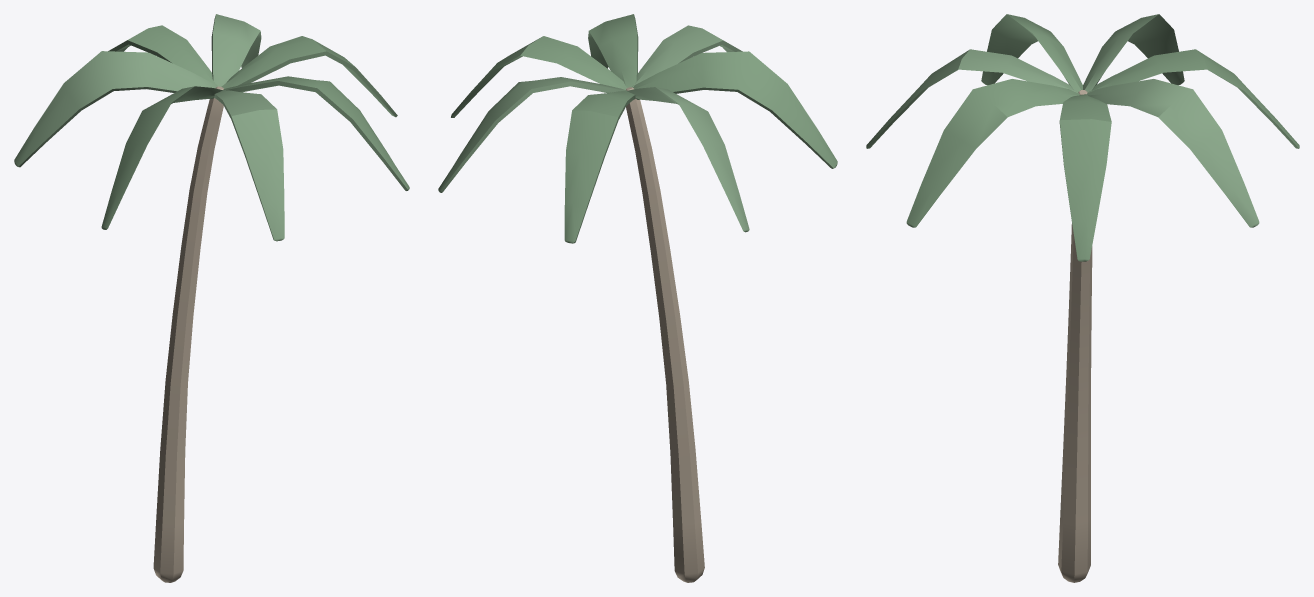
The model's file is tree_palm.gltf.
3 views of the same model, side by side, from view 1: azimuth 30°, elevation 25°; view 2: azimuth 150°, elevation 25°; view 3: azimuth 270°, elevation 25° (orthographic). The views are drawn at different scales.
Parts seen in each view (by area): view 1: Body; view 2: Body; view 3: Body.
Boxes of the visible parts, bbox=[...] form: Body: bbox=[14, 14, 409, 582]; Body: bbox=[438, 14, 837, 582]; Body: bbox=[866, 14, 1299, 582].
Size of the model in its own units: 5 by 7.2 by 5.13.
